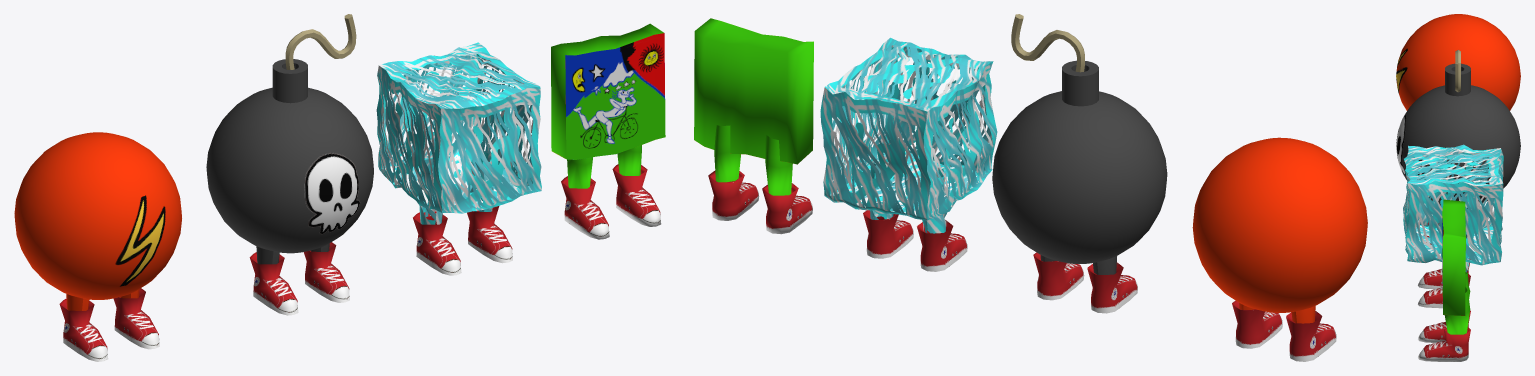
The model's file is powerups.FBX.
3 renders of one model, left to right at view 1: azimuth 30°, elevation 25°; view 2: azimuth 150°, elevation 25°; view 3: azimuth 270°, elevation 25°, orthographic. The views are drawn at different scales.
Parts seen in each view (by area): view 1: bomb, ice, flash, lsd; view 2: bomb, ice, flash, lsd; view 3: ice, bomb, flash, lsd.
Part boxes in pixels (x1,y1,x2,y2): bomb: (206,14,373,315); ice: (376,42,541,275); flash: (14,132,181,361); lsd: (551,23,665,239); bomb: (992,14,1167,313); ice: (820,37,997,271); flash: (1192,137,1367,361); lsd: (694,18,813,234); ice: (1403,144,1503,308); bomb: (1396,50,1520,246); flash: (1396,14,1520,110); lsd: (1418,199,1470,361).
Size of the model in its own units: 193 by 76.27 by 44.73.
